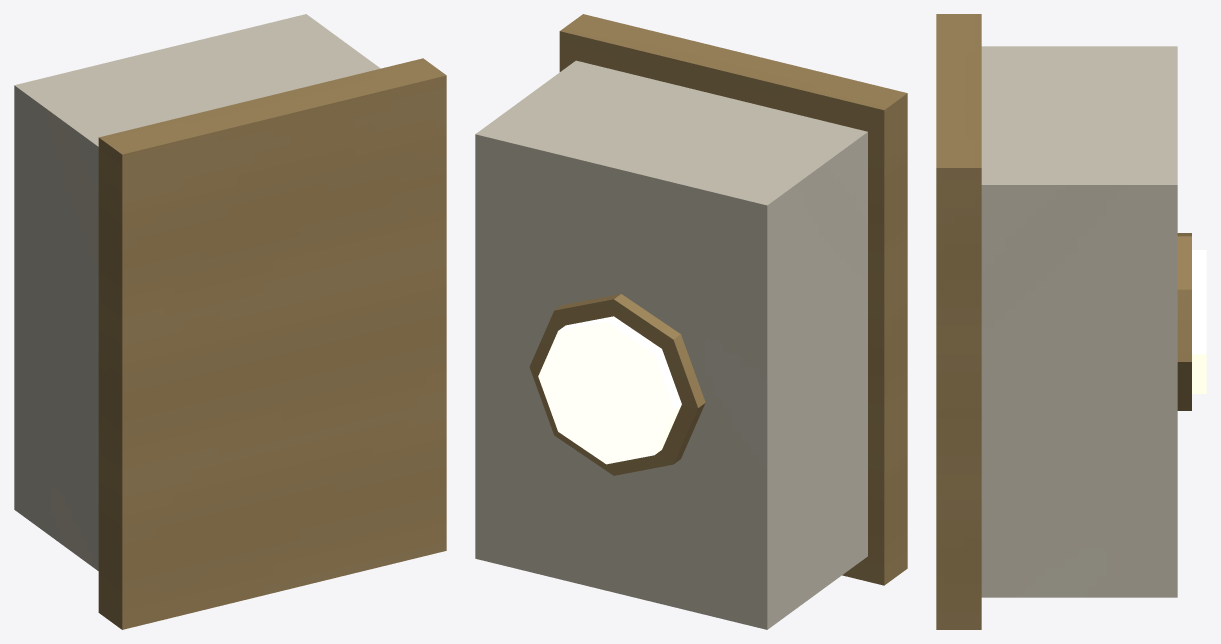
The model's file is AST-TRM-G4-035_station_call_control_r001.glb.
3 renders of one model, left to right at view 1: azimuth 30°, elevation 25°; view 2: azimuth 150°, elevation 25°; view 3: azimuth 270°, elevation 25°, orthographic. The views are drawn at different scales.
Parts seen in each view (by area): view 1: StationCall_StileReceiver, StationCall_ProfiledHousing; view 2: StationCall_ProfiledHousing, StationCall_StileReceiver, StationCall_OpalFace, StationCall_ButtonRim; view 3: StationCall_ProfiledHousing, StationCall_StileReceiver, StationCall_ButtonRim, StationCall_OpalFace.
Part boxes in pixels (bbox=[...]): StationCall_StileReceiver: bbox=[98, 58, 446, 629]; StationCall_ProfiledHousing: bbox=[14, 14, 380, 570]; StationCall_ProfiledHousing: bbox=[475, 60, 867, 629]; StationCall_StileReceiver: bbox=[559, 14, 907, 585]; StationCall_OpalFace: bbox=[538, 316, 681, 464]; StationCall_ButtonRim: bbox=[529, 294, 705, 475]; StationCall_ProfiledHousing: bbox=[981, 46, 1177, 597]; StationCall_StileReceiver: bbox=[936, 14, 981, 629]; StationCall_ButtonRim: bbox=[1177, 233, 1191, 410]; StationCall_OpalFace: bbox=[1192, 250, 1206, 393].
Bounding box in the file's own units: 0.2 × 0.28 × 0.1485.
3 materials, 3 textured.
